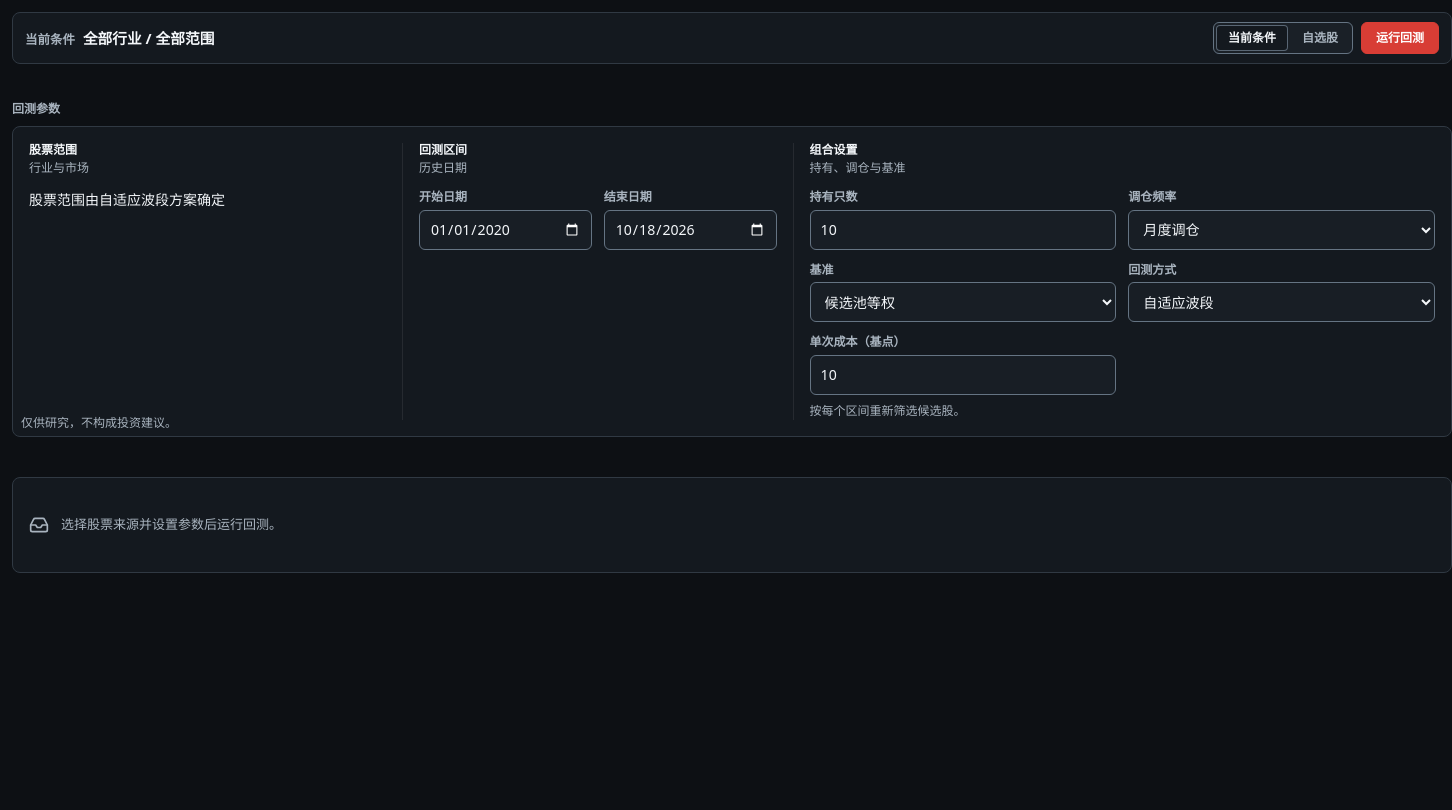
Test: BacktestPanel interactions › refreshes the criteria draft after leaving an adaptive source
The width and height of the screenshot is (1452, 810).
Click the button "自选股": (1320, 38) [1290, 25, 1350, 51]
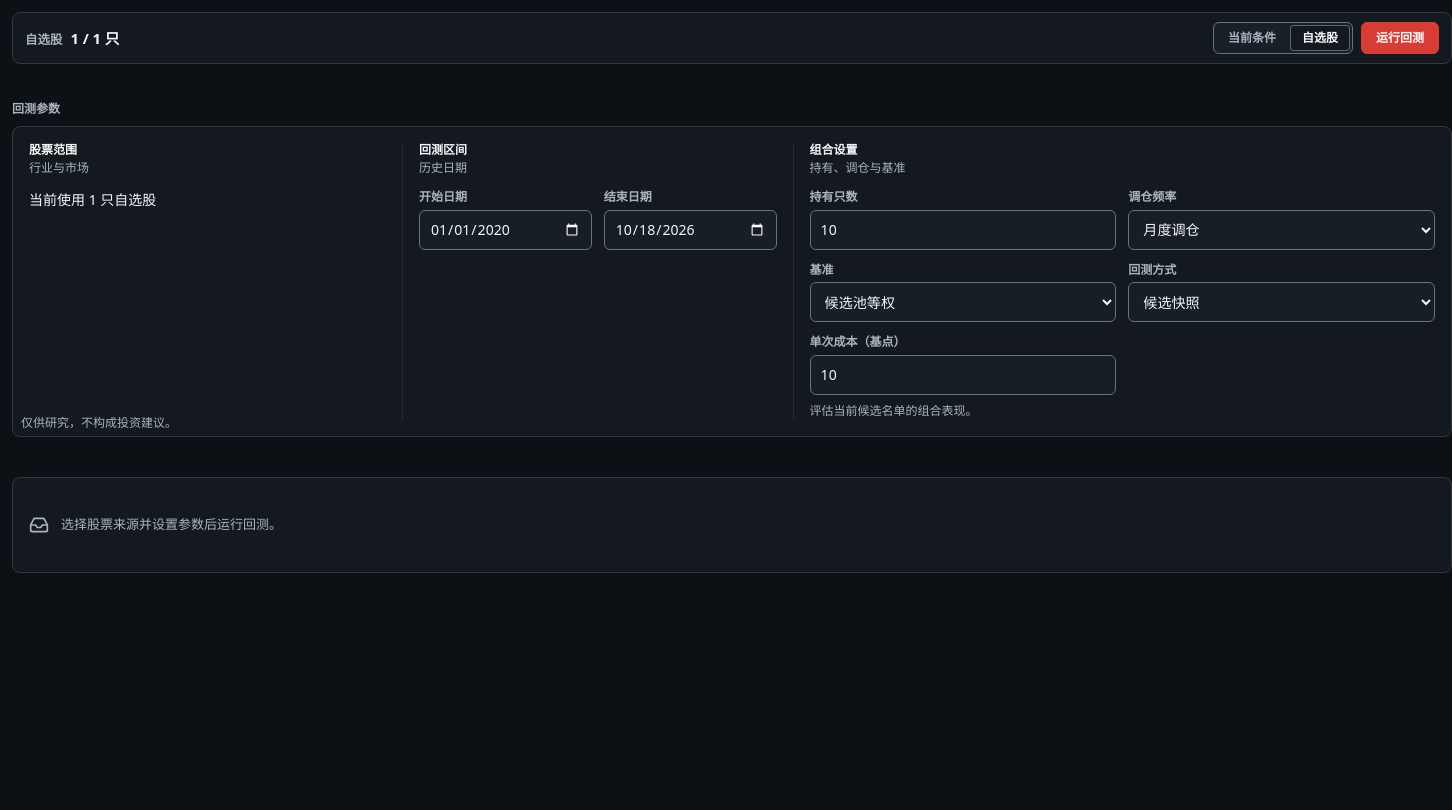
Click the button "当前条件": (1252, 38) [1216, 25, 1288, 51]
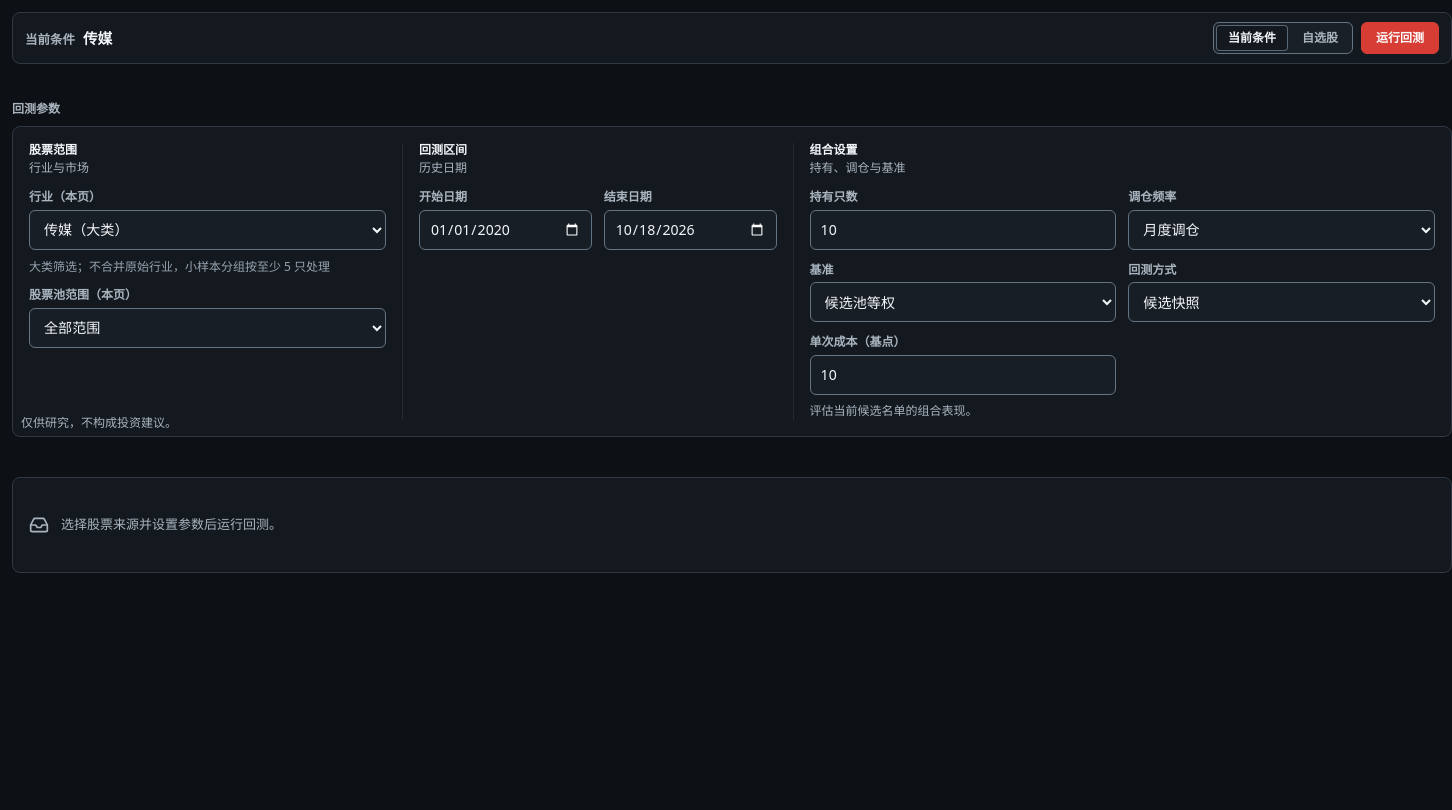
Expected: the dropdown labelled "行业（本页）" shows "传媒（大类）", [29, 210, 386, 250]
